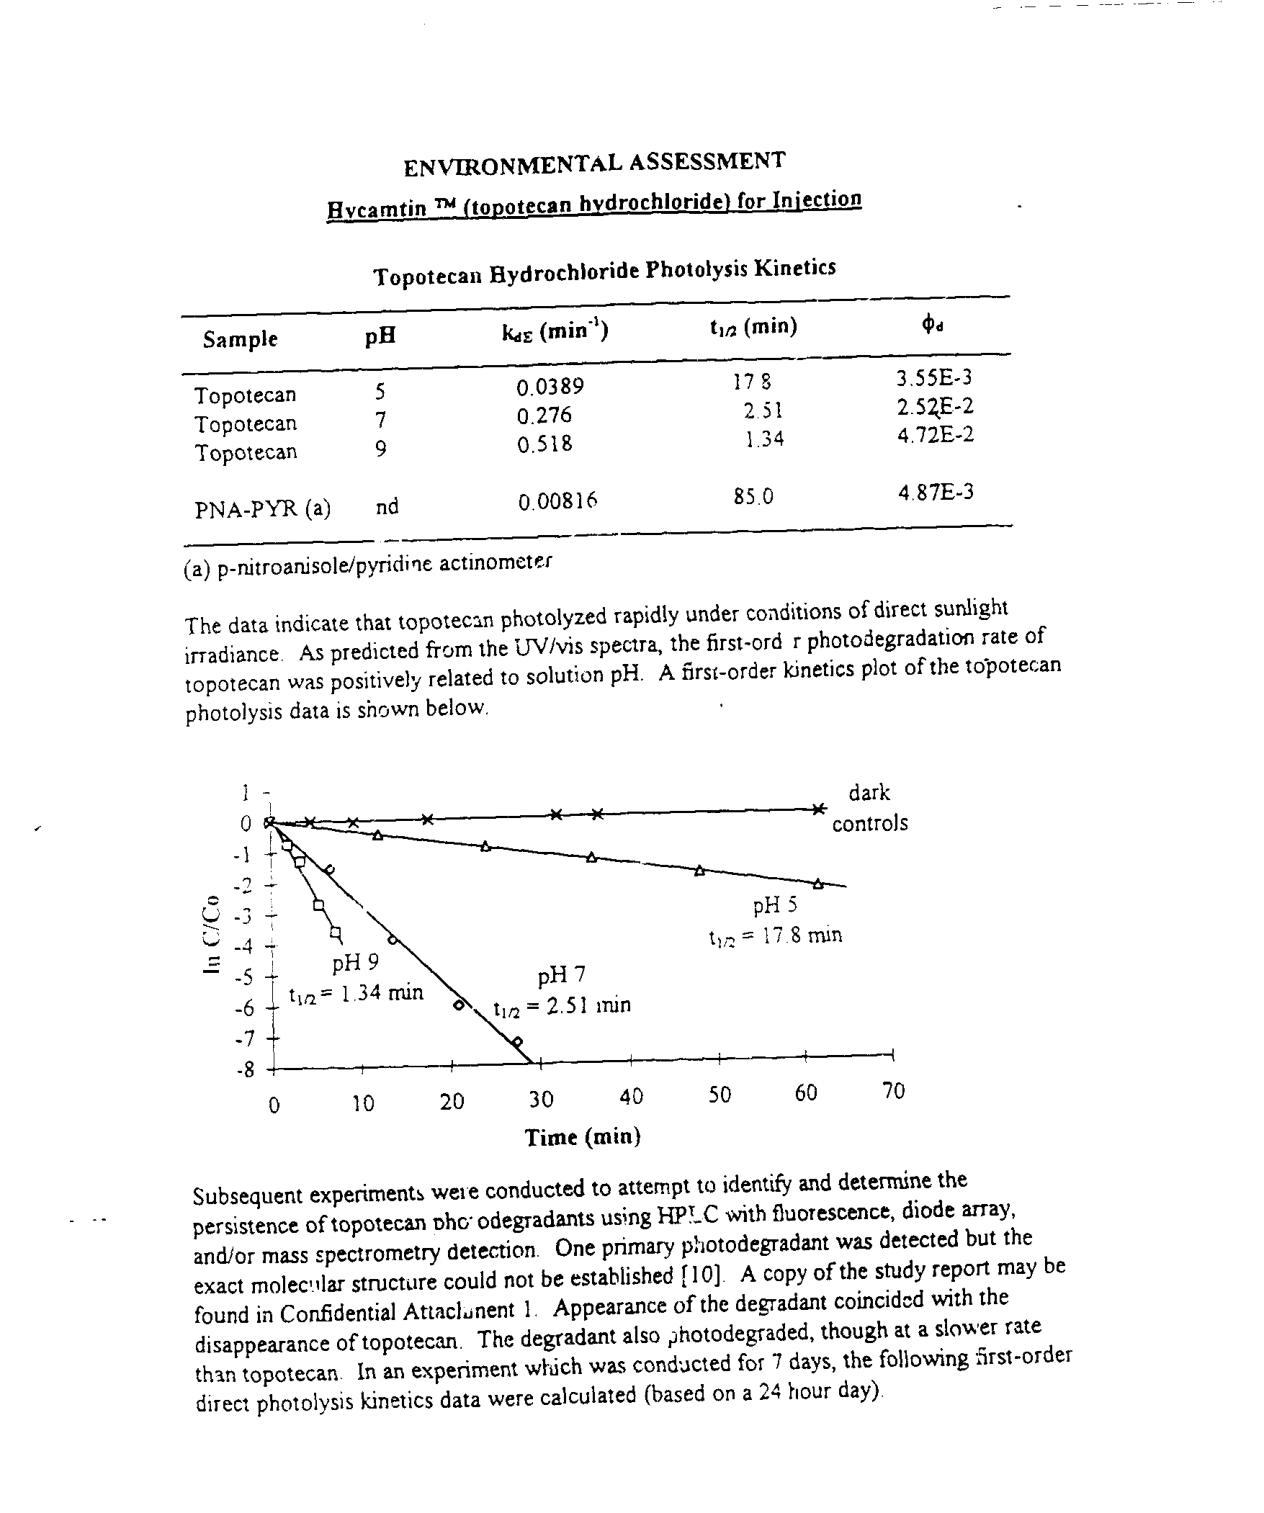partial_lined: (178, 289, 1014, 548)
